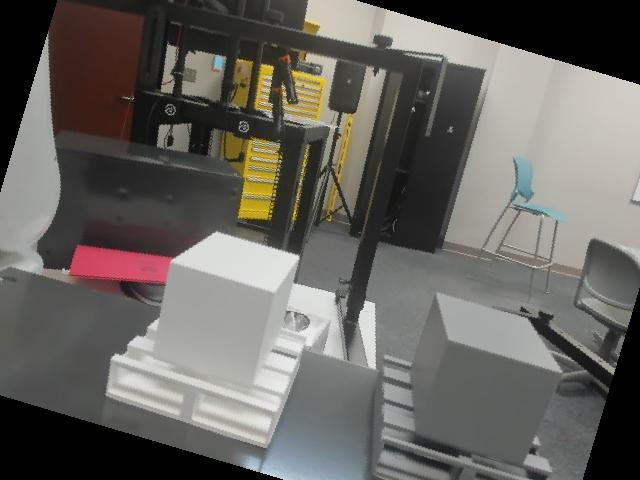grey pallet: (351, 287, 579, 480)
white pallet: (97, 225, 322, 451)
